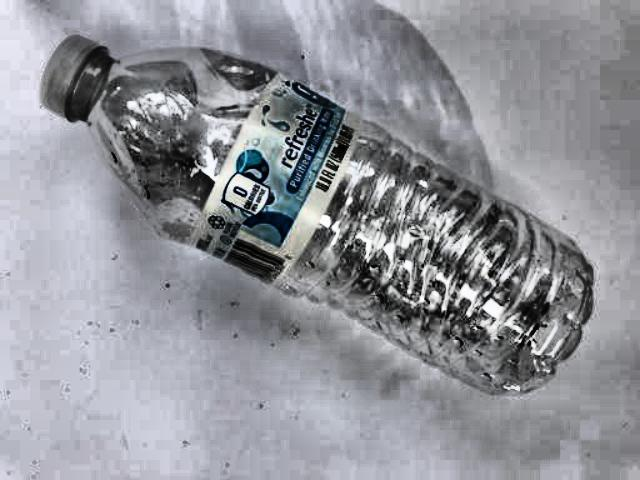Bottles: (9, 6, 625, 411)
